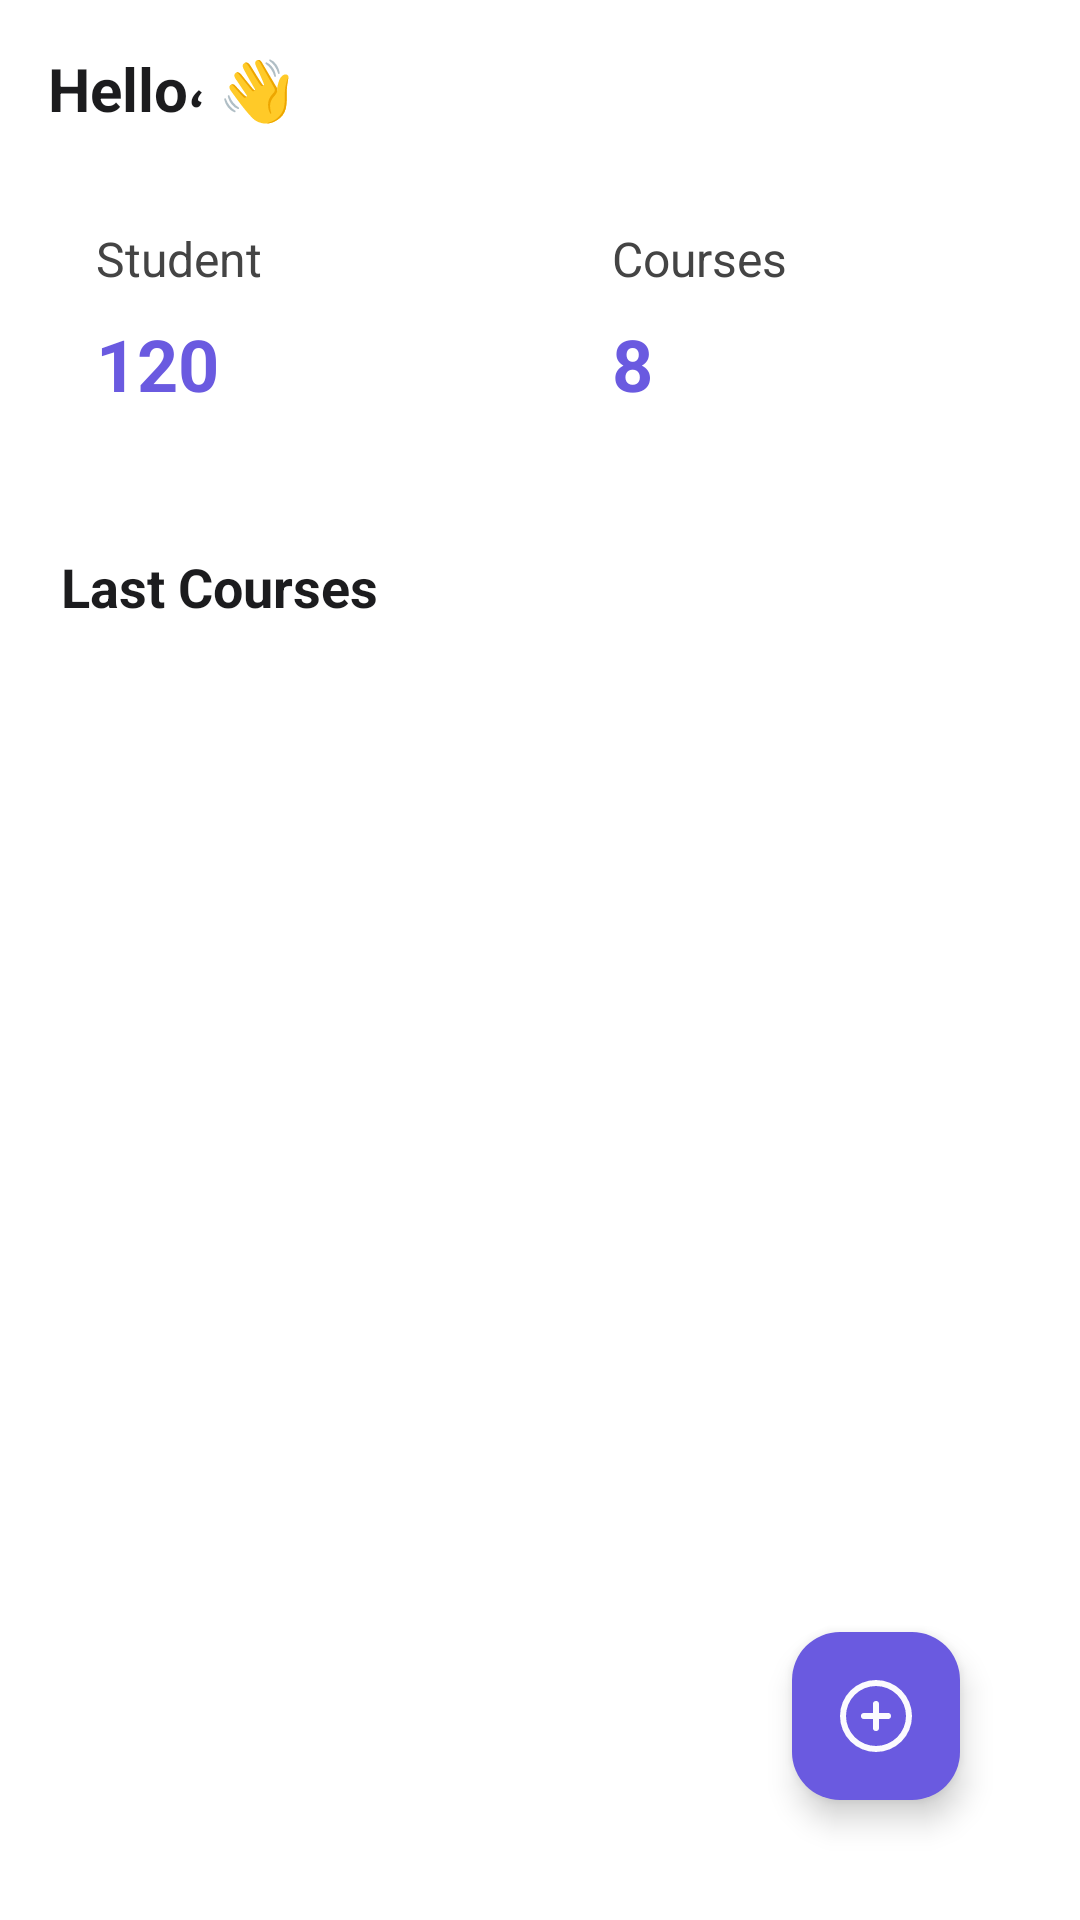

Icons on this 1080 x 1920 Android screen, each with its box as [x1=x1, y1=y1, x2=x2, y2=y2]:
add: [x1=792, y1=1632, x2=960, y2=1800]
